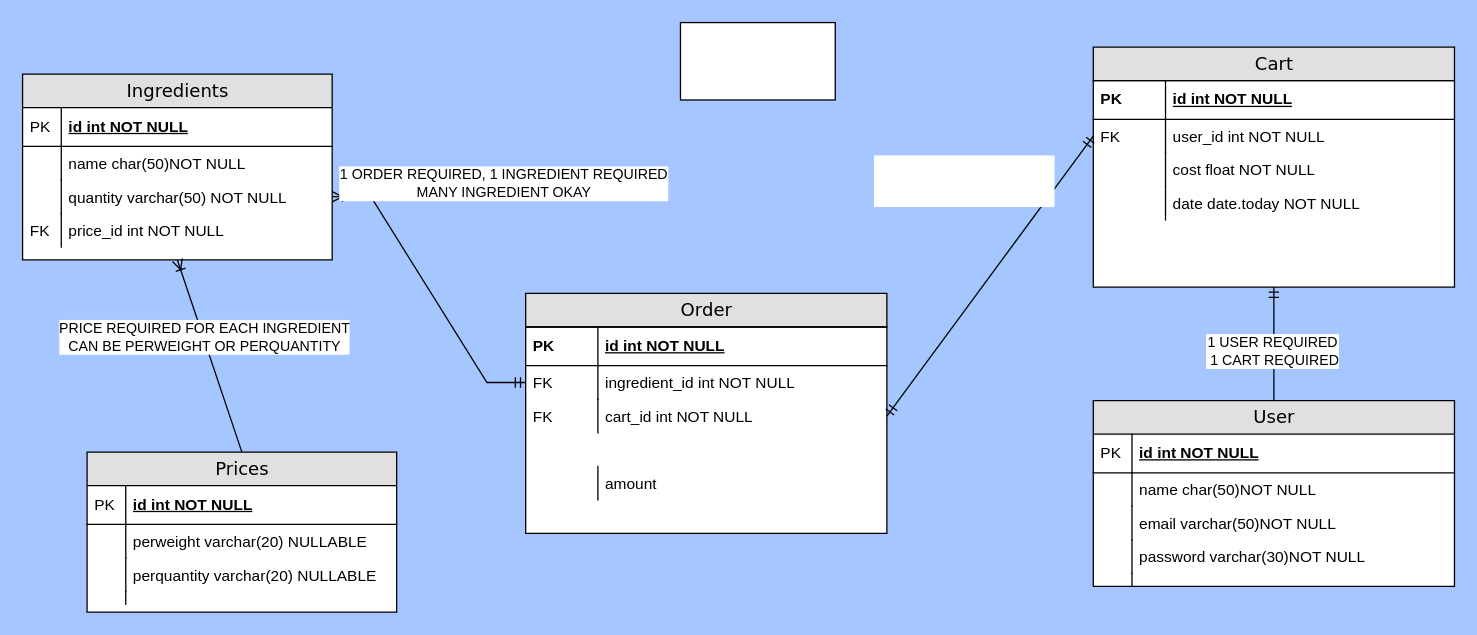
The diagram is 1477 pixels wide and 635 high, and some of its shapes have lost their labels. Here are the shapes that lost their labels. From the top down, the centre of each, then its label:
At [757,60]: "ECOMMERCE SITE".
At [963,180]: "1 CART REQUIRED 1 ORDER REQUIRED".
